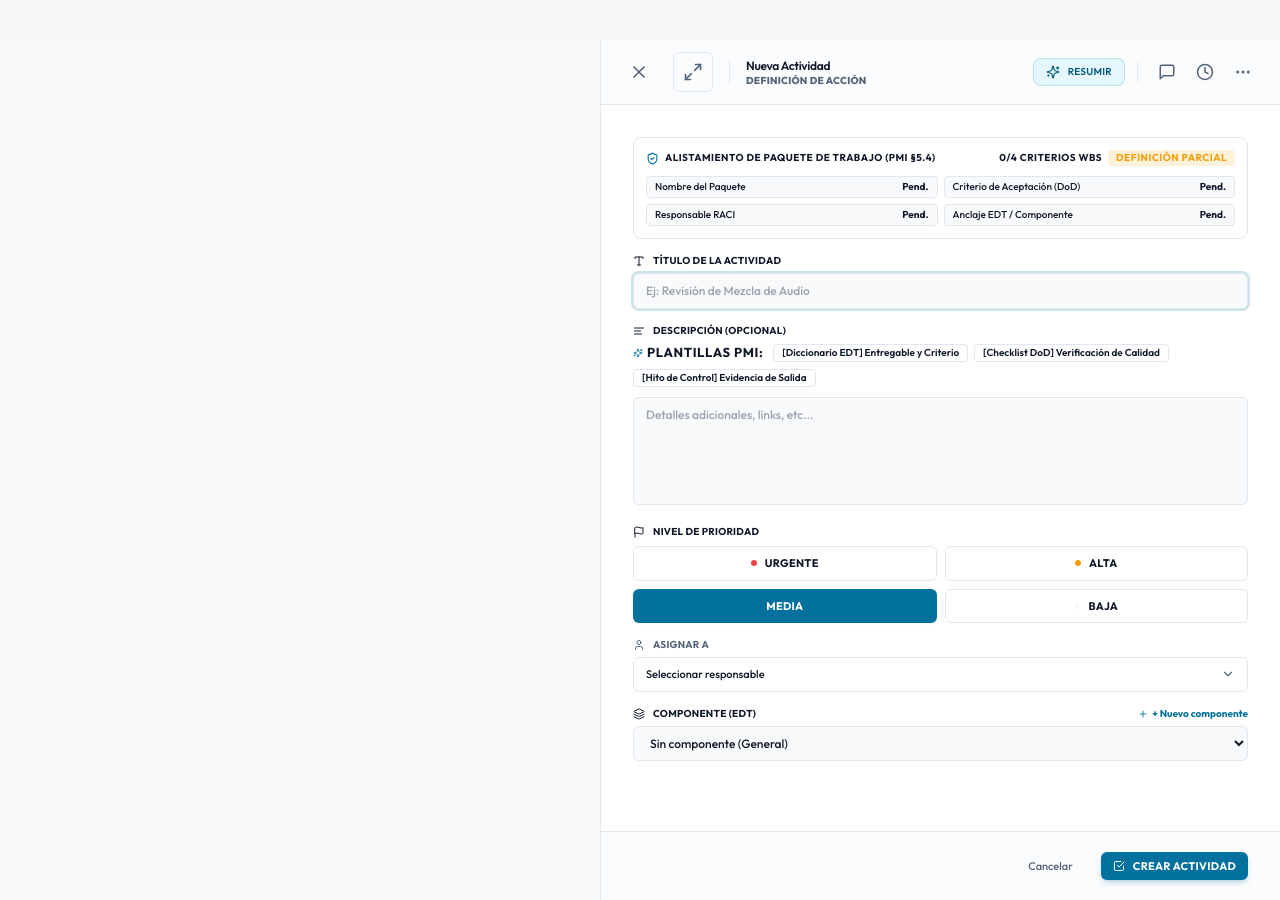
Test: TaskCreationDrawer accessibility › updates PMI WBS readiness score reactively as fields are populated
expect the element with test id "task-creation-pmi-readiness" shows "Definición Parcial": met, box [1116,151,1227,164]
expect the text with test id "task-creation-pmi-score" reads "0/4 Criterios WBS": met, box [999,152,1102,164]
Type "Configurar Red Redundante" into the field labelled "Título de la actividad" at (940, 291), box [633,273,1248,309]
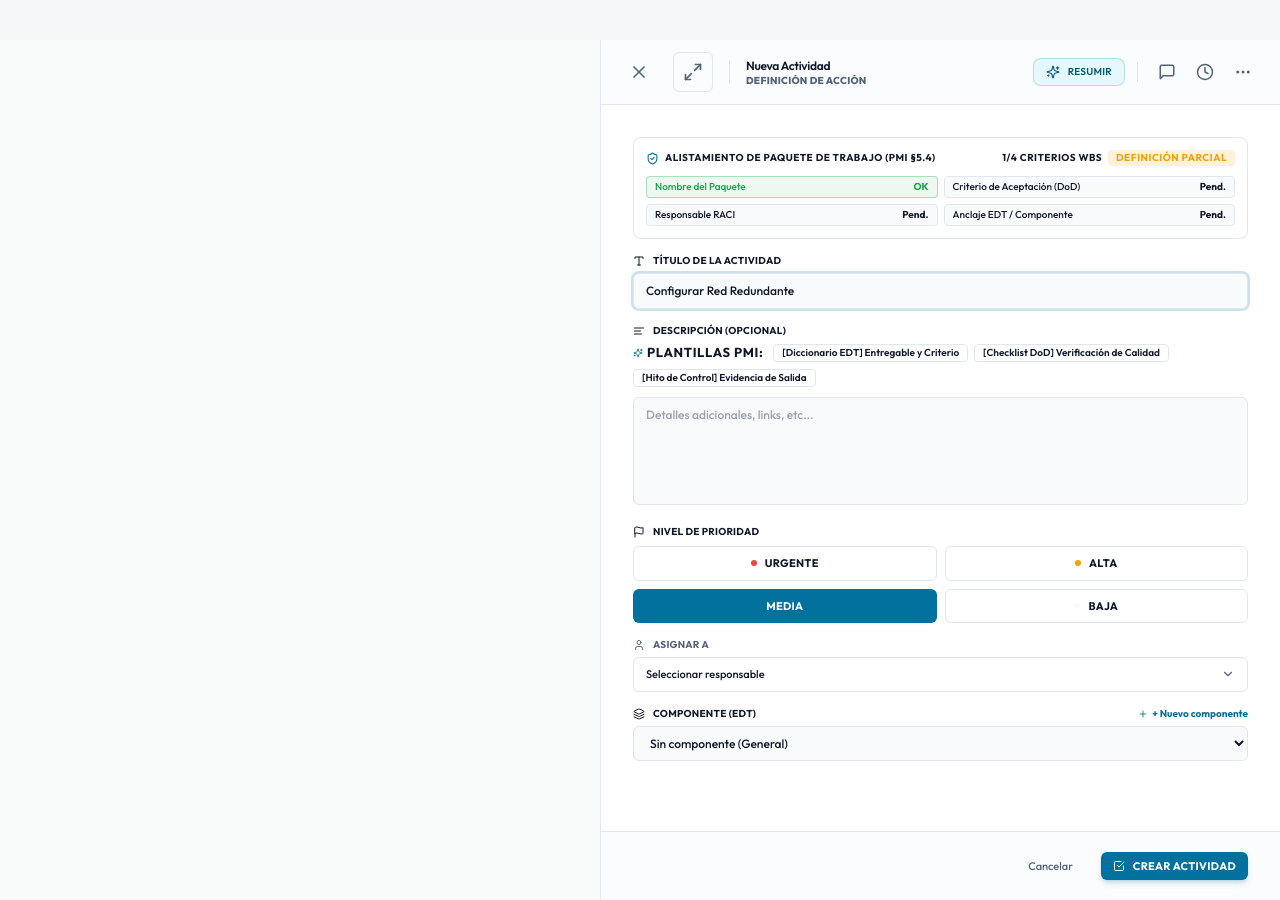
expect the text with test id "task-creation-pmi-score" reads "1/4 Criterios WBS": met, box [1002,152,1102,164]
Type "Criterio de aceptación verificable de más de quince caracteres." into the text box labelled "Descripción (Opcional)" at (940, 450), box [633,396,1248,504]
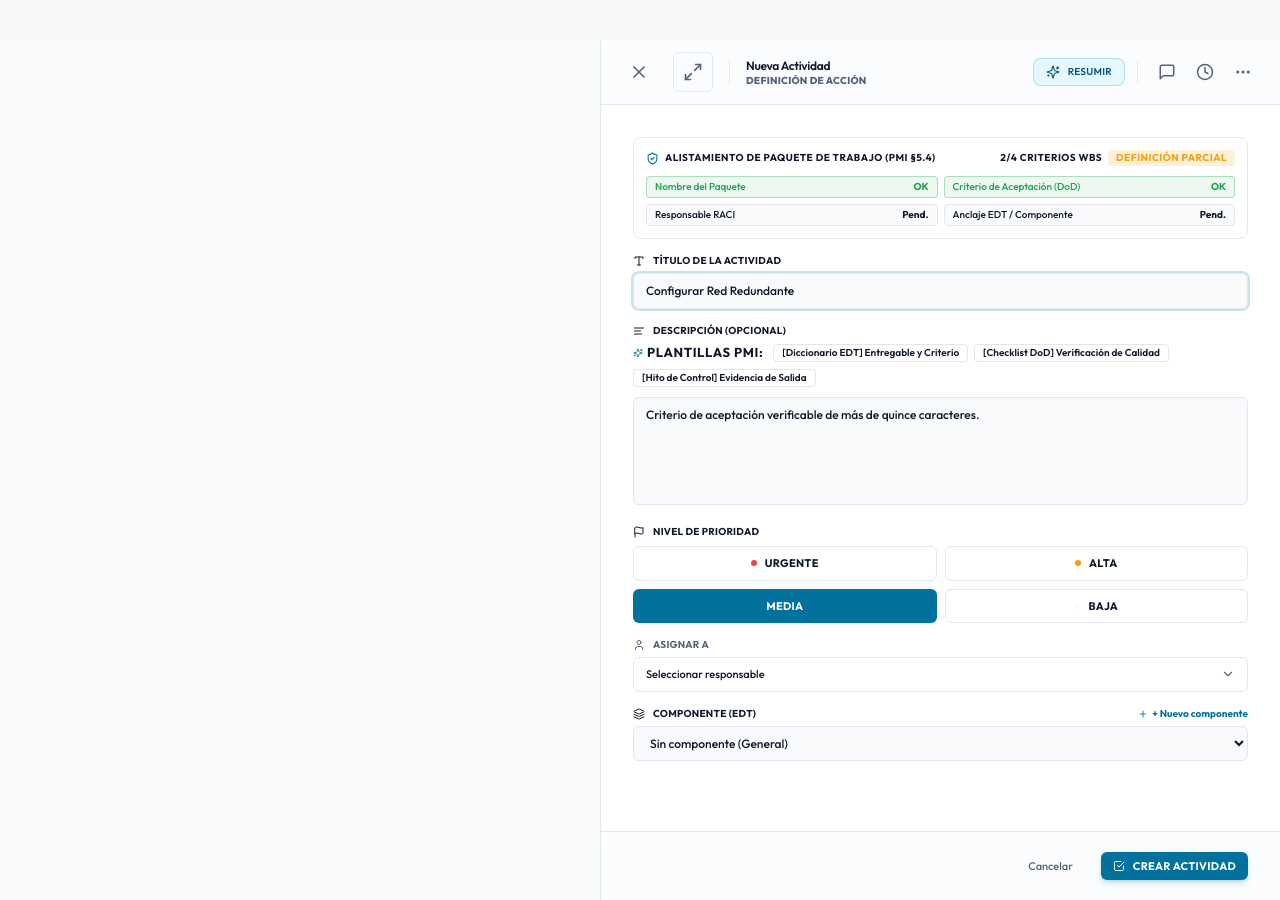
expect the text with test id "task-creation-pmi-score" reads "2/4 Criterios WBS": met, box [1000,152,1102,164]
Select "EDT-1.0 · Arquitectura" in the dropdown labelled "Componente (EDT)" at (940, 743), box [633,726,1248,760]
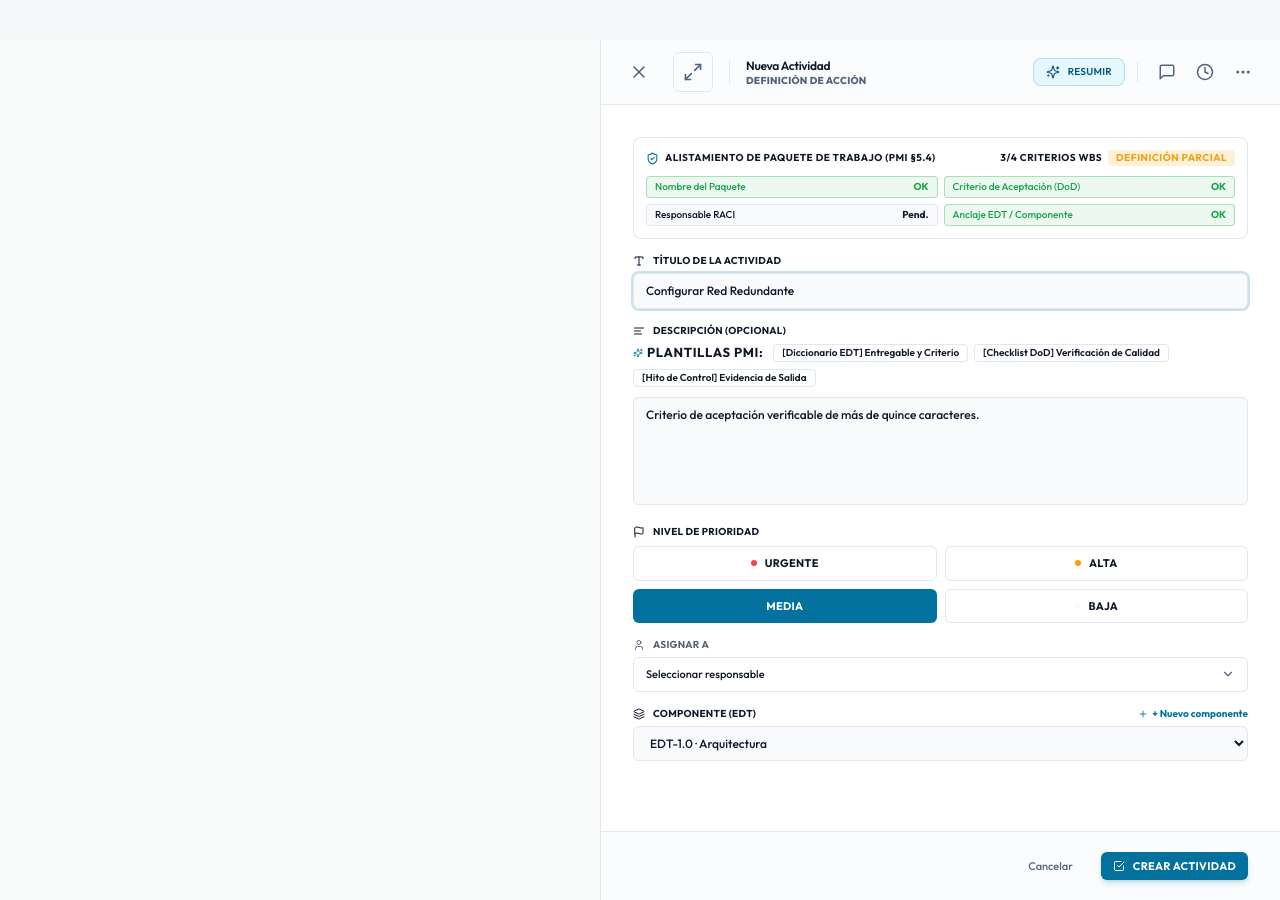
expect the text with test id "task-creation-pmi-score" reads "3/4 Criterios WBS": met, box [1000,152,1102,164]
